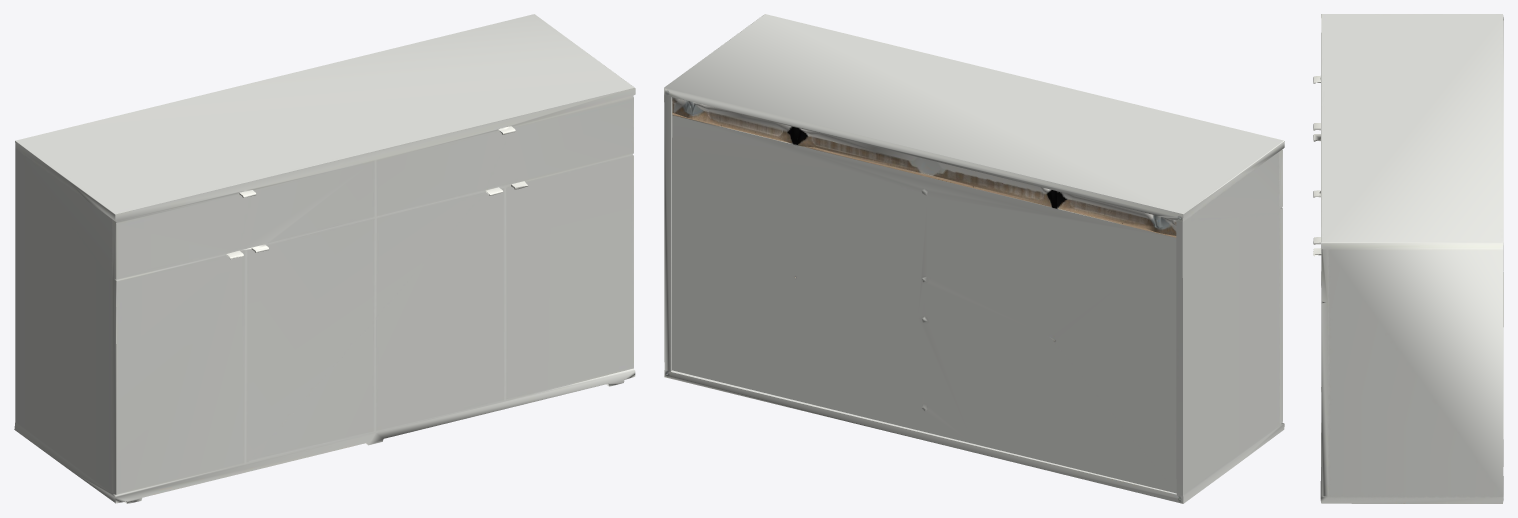
The model's file is VIHALS_90491720.glb.
The picture shows the model from 3 angles, left to right: view 1: azimuth 30°, elevation 25°; view 2: azimuth 150°, elevation 25°; view 3: azimuth 270°, elevation 25°; orthographic projection. The views are drawn at different scales.
Visible parts, largest first — view 1: ProcessedMeshNode; view 2: ProcessedMeshNode; view 3: ProcessedMeshNode.
Boxes of the visible parts, x1,y1,x2,y2 form: ProcessedMeshNode: [14, 14, 635, 503]; ProcessedMeshNode: [664, 14, 1284, 503]; ProcessedMeshNode: [1313, 14, 1503, 503].
Bounding box in the file's own units: 1.4 × 0.751 × 0.4918.
Materials: 1 (1 with a texture image).
